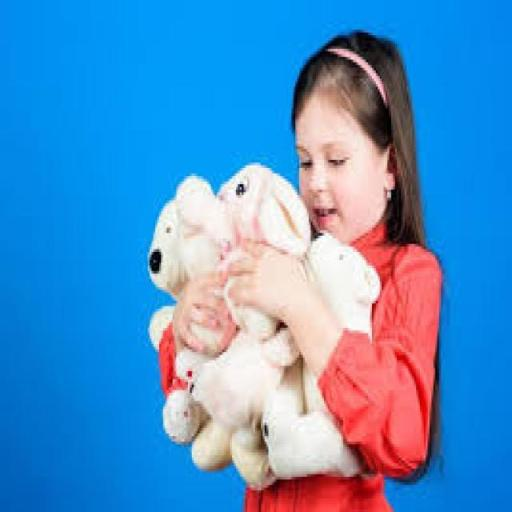baby: (158, 31, 444, 511)
